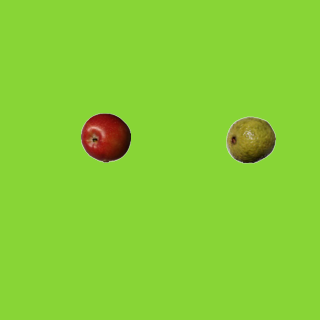Apple Braeburn: (80, 112, 130, 162)
Guava: (225, 114, 275, 164)
